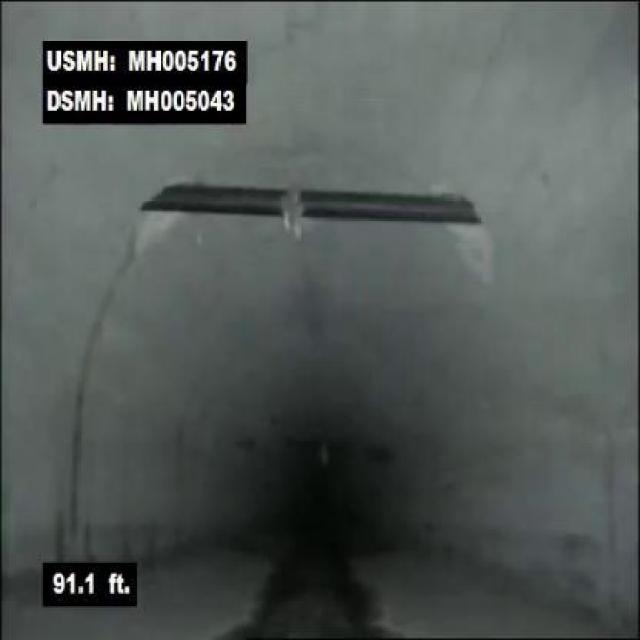Utility intrusion: (137, 177, 485, 229)
